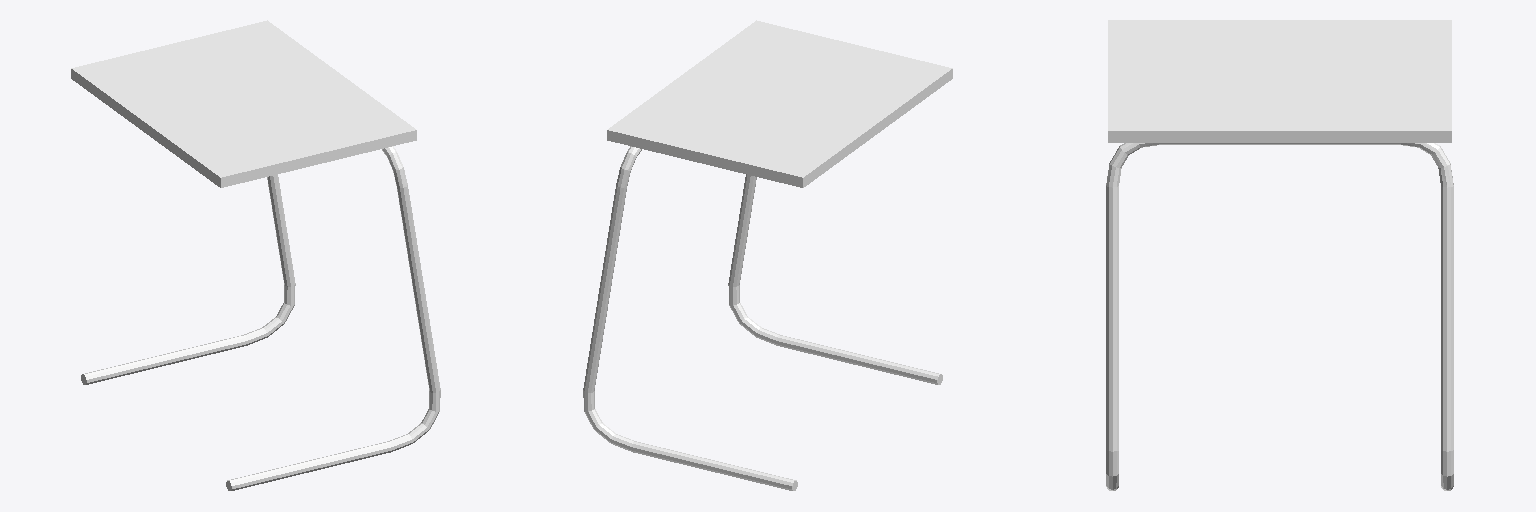
URDF robot description (adjustable_table):
<?xml version="1.0" ?>
<robot name="adjustable_table">
  <link name="baseLink">
    <contact>
      <lateral_friction value="1.0"/>
      <rolling_friction value="0.0"/>
      <contact_cfm value="0.0"/>
      <contact_erp value="1.0"/>
    </contact>
    <inertial>
      <origin rpy="0 0 0" xyz="0 0 0"/>
       <mass value="1.0"/>
       <inertia ixx="1" ixy="0" ixz="0" iyy="1" iyz="0" izz="1"/>
    </inertial>
    <visual>
      <origin rpy="0 0 0" xyz="0 0 0"/>
      <geometry>
				<mesh filename="adjustable_table.dae" scale="1 1 1"/>
      </geometry>
       <!-- <material name="white">
        <color rgba="0 0 0 1"/>
      </material> -->
    </visual>
    <collision>
      <origin rpy="0 0 0" xyz="0 0 0"/>
      <geometry>
	 	    <mesh filename="adjustable_table.dae" scale="1 1 1"/>
      </geometry>
    </collision>
  </link>
</robot>

--- What the picture shows (computed from the rendered views, not written in the file) ---
Views: 3 orthographic renders of the robot side by side, from view 1: azimuth 30°, elevation 25°; view 2: azimuth 150°, elevation 25°; view 3: azimuth 270°, elevation 25°.
Model adjustable_table with 1 links and 0 joints (none), rooted at baseLink, posed all joints at 0.
Links seen in each view (by area): view 1: baseLink; view 2: baseLink; view 3: baseLink.
Link boxes in pixels (x1,y1,x2,y2): baseLink: [71, 20, 440, 490]; baseLink: [583, 20, 952, 490]; baseLink: [1106, 20, 1453, 490].
Size in the robot's own frame: 0.4404 by 0.519 by 0.6034 metres.
Meshes: 1 distinct files referenced, 1 mesh visuals loaded (1 Collada DAE).